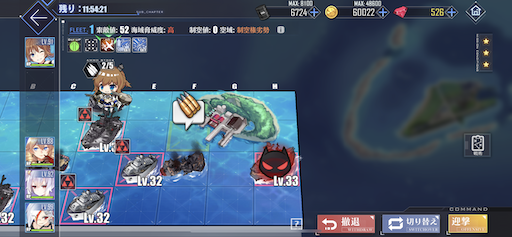boss: (252, 144, 301, 185)
lv3: (59, 175, 110, 223), (116, 140, 161, 187), (76, 109, 125, 152)
